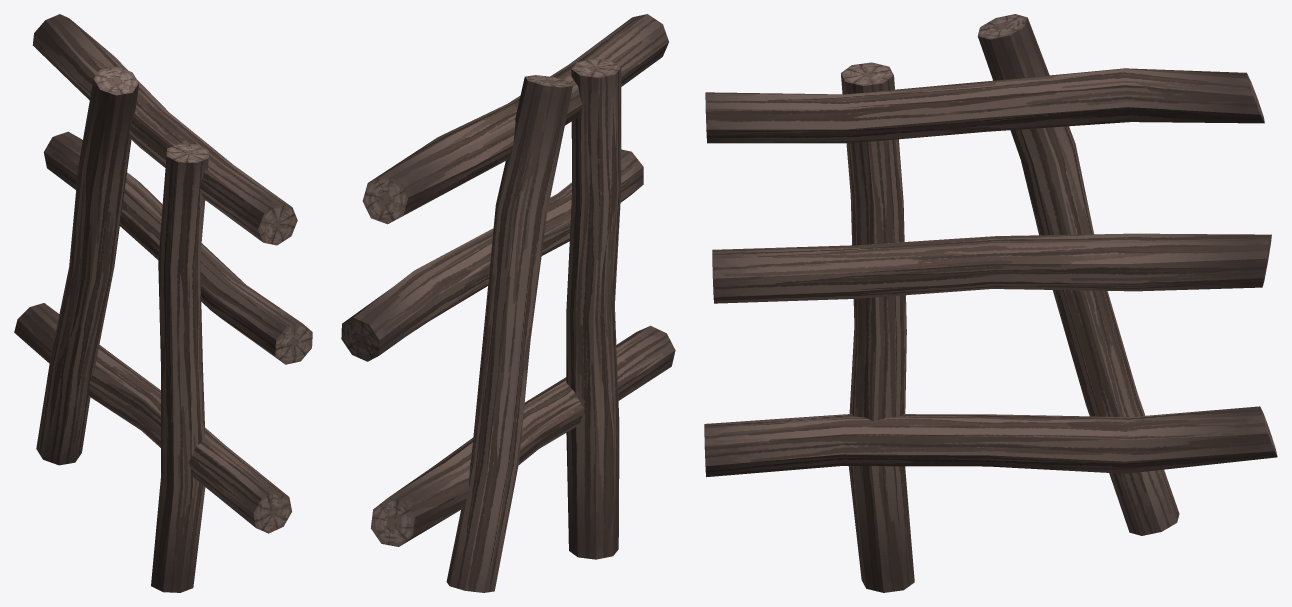
Rendered from ASSETMODEL_VALLA1_R.fbx.
3 views of the same model, side by side, from view 1: azimuth 30°, elevation 25°; view 2: azimuth 150°, elevation 25°; view 3: azimuth 270°, elevation 25° (orthographic). The views are drawn at different scales.
Visible parts, largest first — view 1: Fence 03.001; view 2: Fence 03.001; view 3: Fence 03.001.
Part boxes in pixels (x1,y1,x2,y2): Fence 03.001: (14, 14, 312, 592); Fence 03.001: (341, 14, 675, 592); Fence 03.001: (704, 14, 1277, 592).
Size of the model in its own units: 24.33 by 111 by 103.
Materials: 1 (1 with a texture image).
